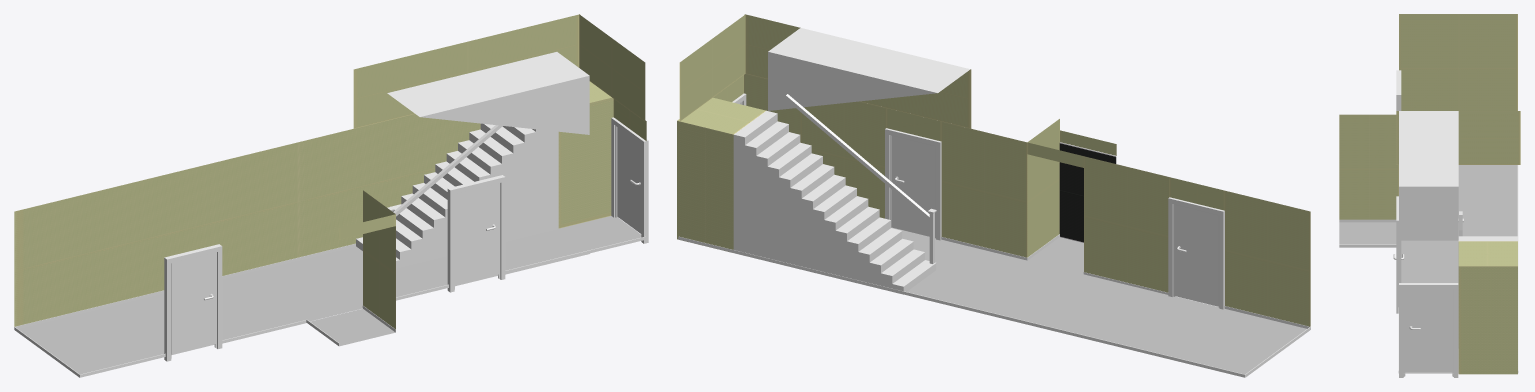
File: hallway.gltf
3 views of the same model, side by side, from view 1: azimuth 30°, elevation 25°; view 2: azimuth 150°, elevation 25°; view 3: azimuth 270°, elevation 25° (orthographic). The views are drawn at different scales.
Visible parts, largest first — view 1: Wall, MeshInstance3D5, ProtoRamp3, ProtoRamp22, NegativeZ2, MeshInstance3D25, MeshInstance3D, MeshInstance3D2, PositiveX2, Wall3, MeshInstance3D3, DoorFrame (+8 smaller); view 2: MeshInstance3D5, BedroomDoor, ProtoRamp3, DoorTwo, ProtoRamp22, MeshInstance3D25, PositiveZ2, MeshInstance3D, PositiveX2, MeshInstance3D2, Wall3, Void (+8 smaller); view 3: Wall4, MeshInstance3D25, ProtoRamp22, MeshInstance3D5, Wall22, MeshInstance3D3, NegativeX2, DoorFrame3, Floor2, DoorFrame2, ProtoRamp3, Trim (+3 smaller).
Part boxes in pixels (x1,y1,x2,y2): Wall: (14,114,480,326); MeshInstance3D5: (18,216,641,374); ProtoRamp3: (356,123,558,268); ProtoRamp22: (387,52,589,134); NegativeZ2: (353,14,580,128); MeshInstance3D25: (558,81,613,228); MeshInstance3D: (171,253,215,354); MeshInstance3D2: (455,183,498,284); PositiveX2: (579,14,645,121); Wall3: (363,190,395,329); MeshInstance3D3: (617,127,641,233); DoorFrame: (164,244,222,361); MeshInstance3D5: (891,227,1306,374); BedroomDoor: (1084,156,1310,326); ProtoRamp3: (733,110,936,294); DoorTwo: (800,101,1027,257); ProtoRamp22: (768,28,970,110); MeshInstance3D25: (677,97,765,252); PositiveZ2: (744,14,971,128); MeshInstance3D: (1175,205,1218,306); PositiveX2: (679,14,745,121); MeshInstance3D2: (892,135,935,236); Wall3: (1027,119,1059,257); Void: (1059,142,1116,242); Wall4: (1399,14,1517,110); MeshInstance3D25: (1458,241,1517,374); ProtoRamp22: (1399,111,1458,240); MeshInstance3D5: (1398,165,1517,373); Wall22: (1339,114,1398,219); MeshInstance3D3: (1404,289,1452,372); NegativeX2: (1396,111,1520,164); DoorFrame3: (1399,283,1458,377); Floor2: (1339,222,1396,244); DoorFrame2: (1396,196,1401,313); ProtoRamp3: (1458,236,1517,348); Trim: (1517,165,1518,372).
Size of the model in its own units: 25.26 by 7.65 by 7.61.
